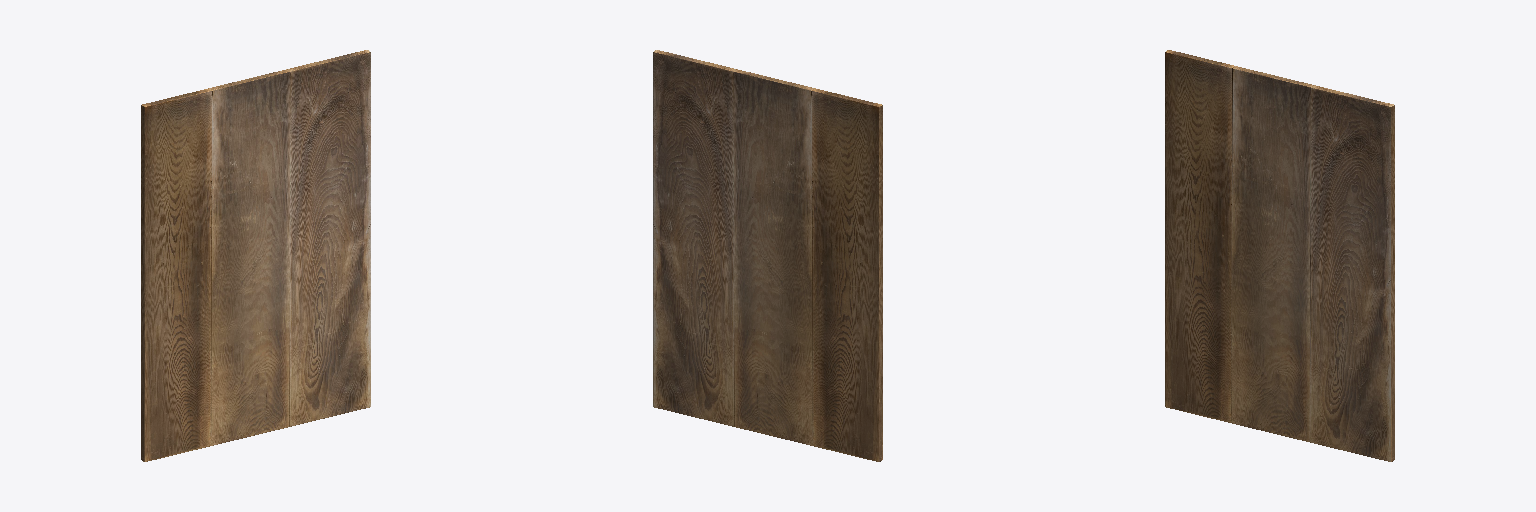
The picture shows the model from 3 angles: view 1: azimuth 30°, elevation 25°; view 2: azimuth 150°, elevation 25°; view 3: azimuth 330°, elevation 25°; orthographic projection.
Parts seen in each view (by area): view 1: Object_0.001; view 2: Object_0.001; view 3: Object_0.001.
Part boxes in pixels (bbox=[...]): Object_0.001: bbox=[141, 50, 370, 461]; Object_0.001: bbox=[653, 50, 882, 461]; Object_0.001: bbox=[1165, 50, 1394, 461].
Bounding box in the file's own units: 0.8 × 1.2 × 0.021.
Materials: 1 (1 with a texture image).